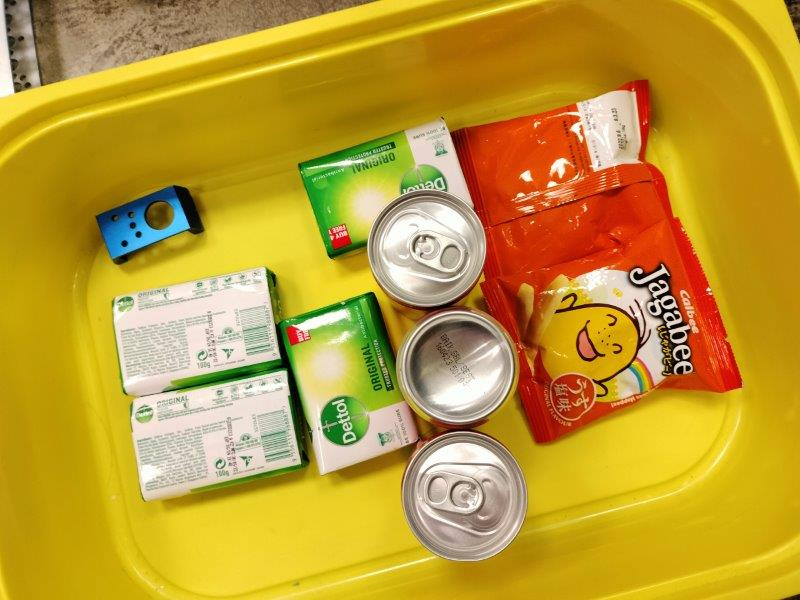Coke: (404, 433, 525, 559), (371, 193, 485, 307), (400, 312, 512, 422)
Dettol: (278, 294, 416, 472), (302, 121, 471, 256), (132, 371, 300, 500), (114, 272, 280, 395)
Jagabee: (487, 222, 740, 444), (454, 82, 672, 277)
